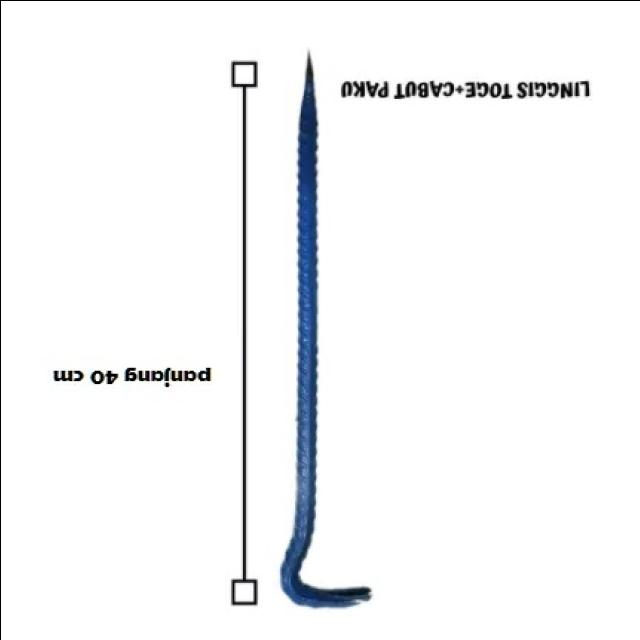Linggis: (279, 57, 374, 613)
